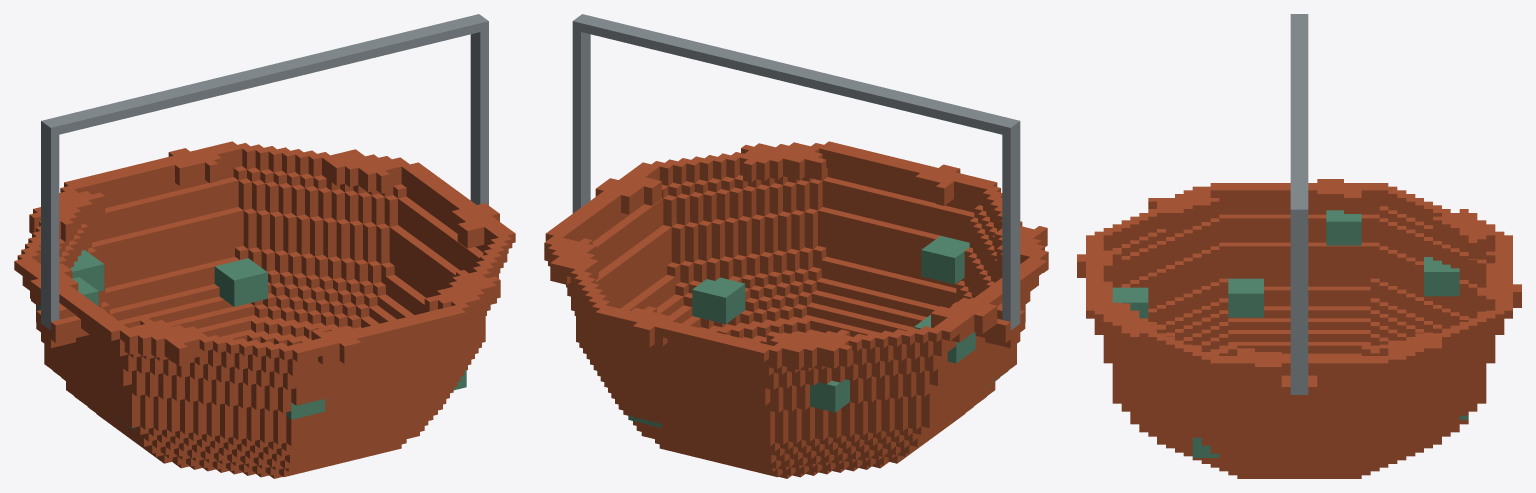
The model's file is pot_makeshift_copper.glb.
The picture shows the model from 3 angles, left to right: view 1: azimuth 30°, elevation 25°; view 2: azimuth 150°, elevation 25°; view 3: azimuth 270°, elevation 25°; orthographic projection. The views are drawn at different scales.
Visible parts, largest first — view 1: pot_makeshift_copper:compound; view 2: pot_makeshift_copper:compound; view 3: pot_makeshift_copper:compound.
Part boxes in pixels (left/top/right/bottom): pot_makeshift_copper:compound: left=14, top=14, right=515, bottom=478; pot_makeshift_copper:compound: left=544, top=14, right=1048, bottom=478; pot_makeshift_copper:compound: left=1077, top=14, right=1521, bottom=478.
Bounding box in the file's own units: 0.208 × 0.156 × 0.2.
